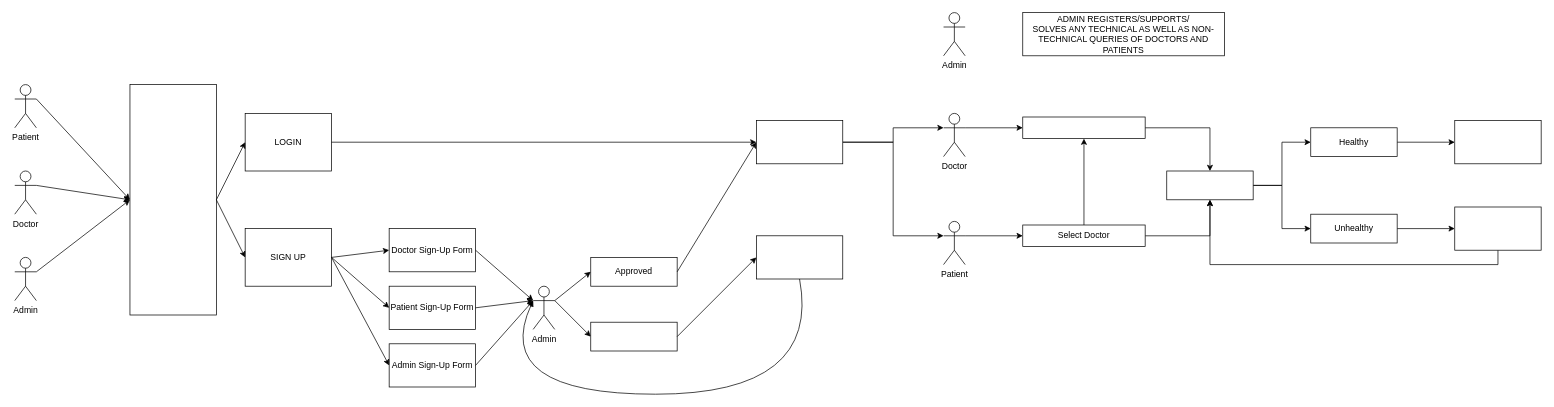
Some shapes in this 1554 by 407 pixel diagram are drawn without their labels. Here are the shapes that lost their labels. From the top down, the centre of each, then its label:
the point at 799,142: Login Page
the point at 1083,127: Check patient requests
the point at 1497,142: Travel Approved
the point at 172,199: Health Pass Portal
the point at 1209,185: Consult
the point at 1497,228: Prescription (Medical/Non-Medical)
the point at 799,257: Email with relevant clarifications
the point at 633,336: Rejected
